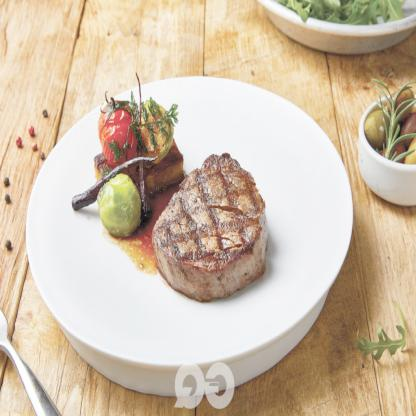Carne: (149, 150, 273, 307)
